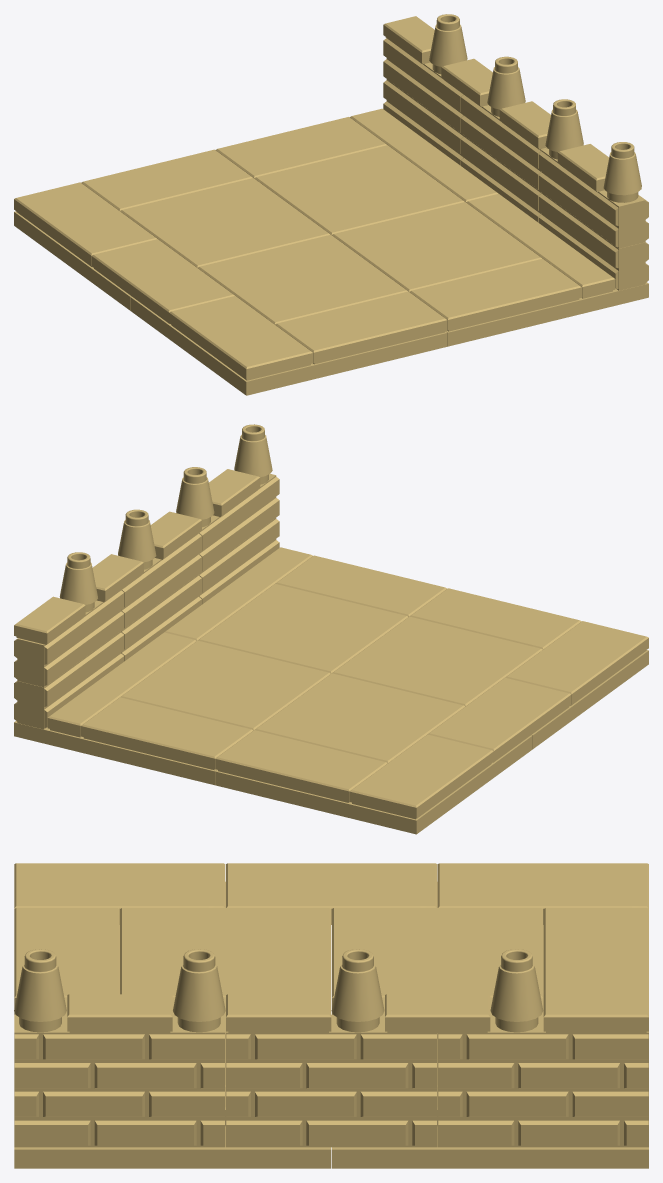
Rendered from castleOpen.fbx.
The picture shows the model from 3 angles, top to bottom: view 1: azimuth 30°, elevation 25°; view 2: azimuth 150°, elevation 25°; view 3: azimuth 270°, elevation 25°; orthographic projection. The views are drawn at different scales.
Visible parts, largest first — view 1: Ground, Wall; view 2: Ground, Wall; view 3: Wall, Ground.
Part boxes in pixels (x1,y1,x2,y2): Ground: (14, 108, 648, 395); Wall: (383, 14, 648, 290); Ground: (14, 547, 648, 834); Wall: (14, 424, 279, 729); Wall: (14, 949, 648, 1147); Ground: (14, 863, 648, 1168).
Size of the model in its own units: 9596 by 3378 by 9596.
